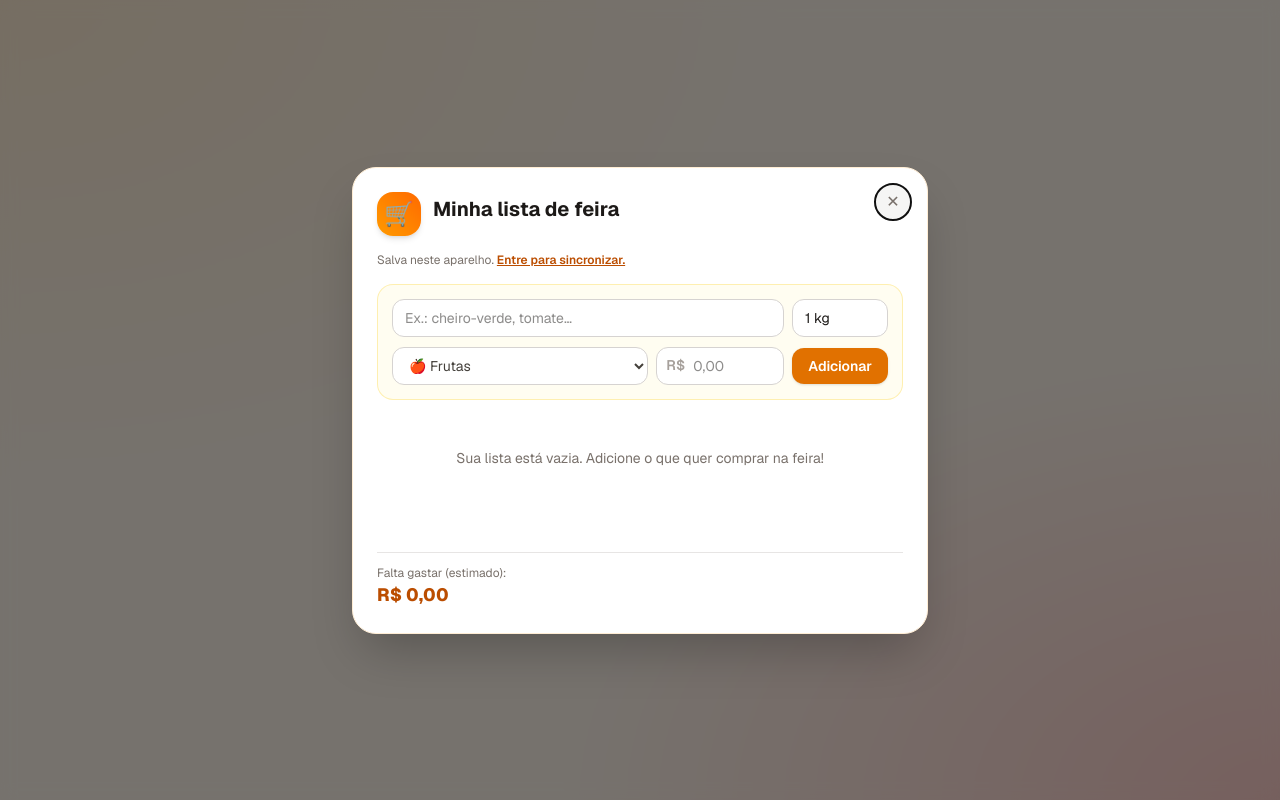
Test: <ShoppingListModal> sem login › rejeita item vazio com mensagem
Click the button "Adicionar" at (840, 366), box [792,348,888,384]
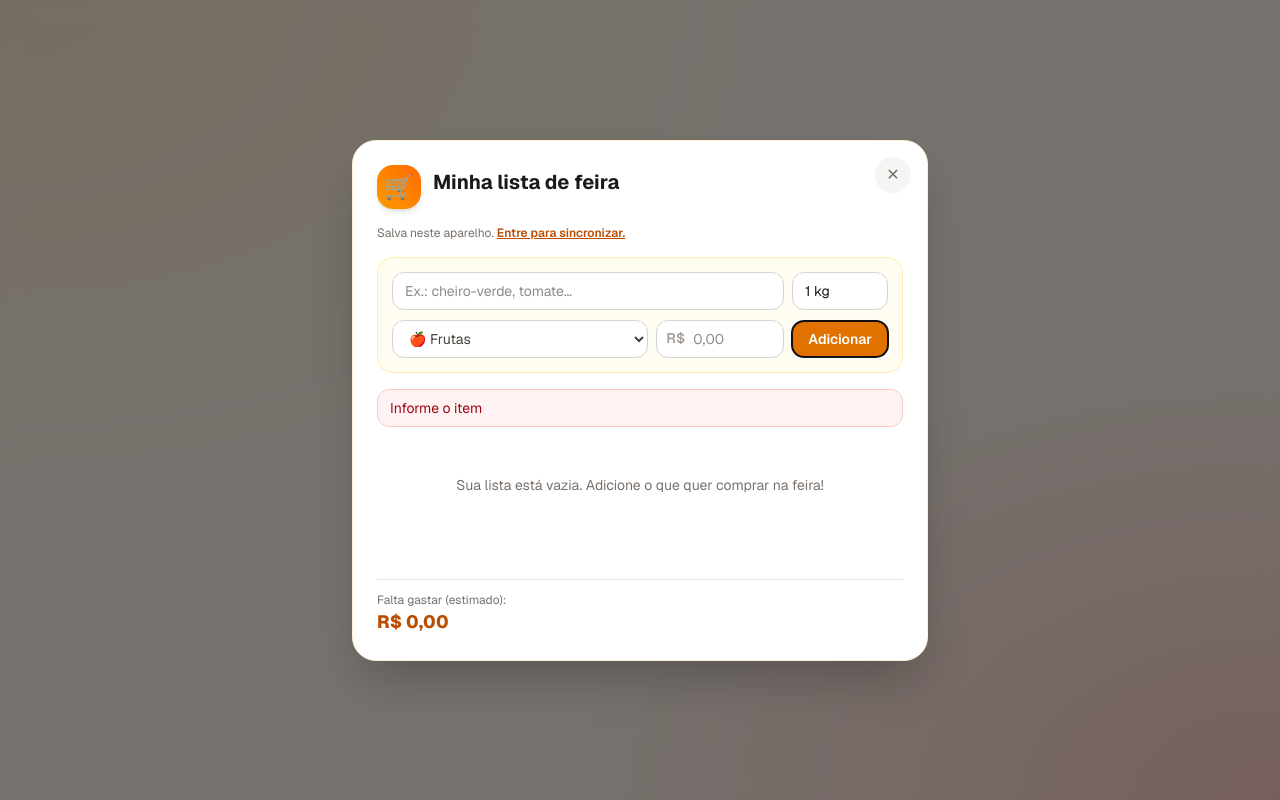
Result: the message reads "Informe o item" at [390,398,482,416]
